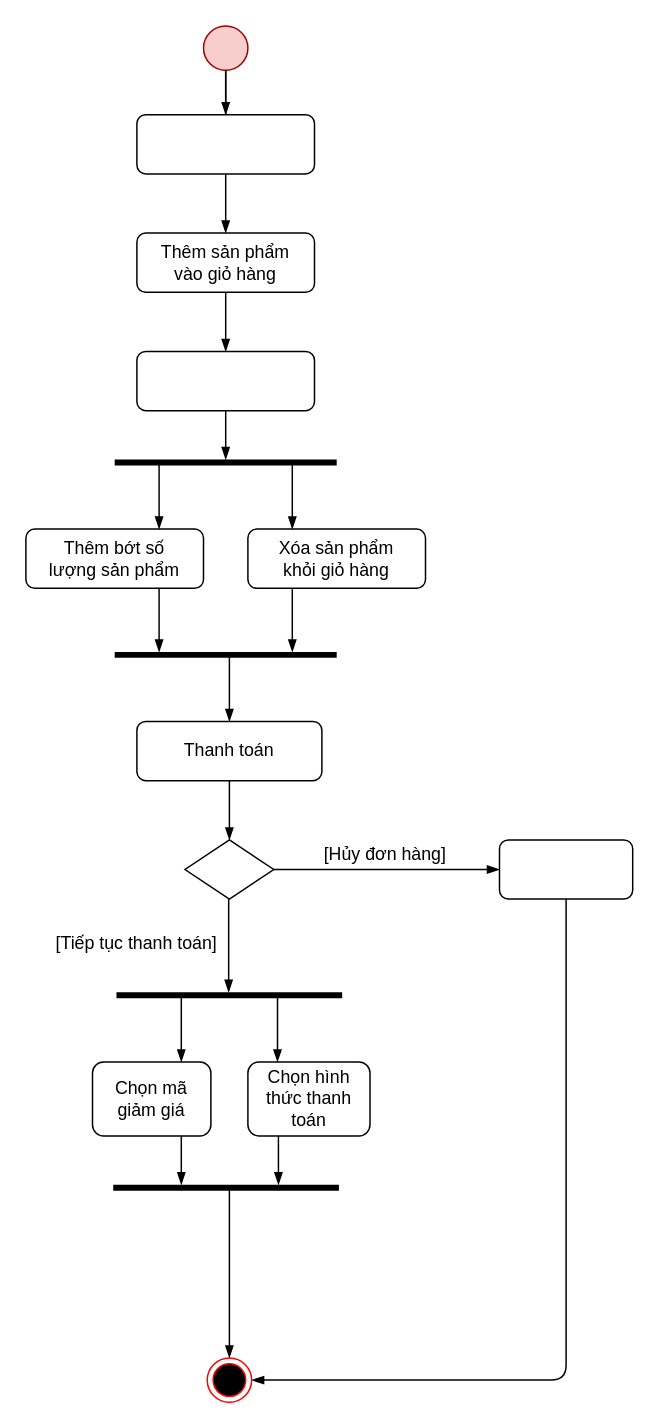
Image size: 659x1428. Some labels were removed from this diagram. Here are the shapes that lost their labels. From the top down, the box of each, then its label:
(135, 113, 314, 174): Xem sản phẩm
(135, 350, 314, 411): Quản lý giỏ hàng
(498, 838, 633, 899): Hủy việc mua hàng
